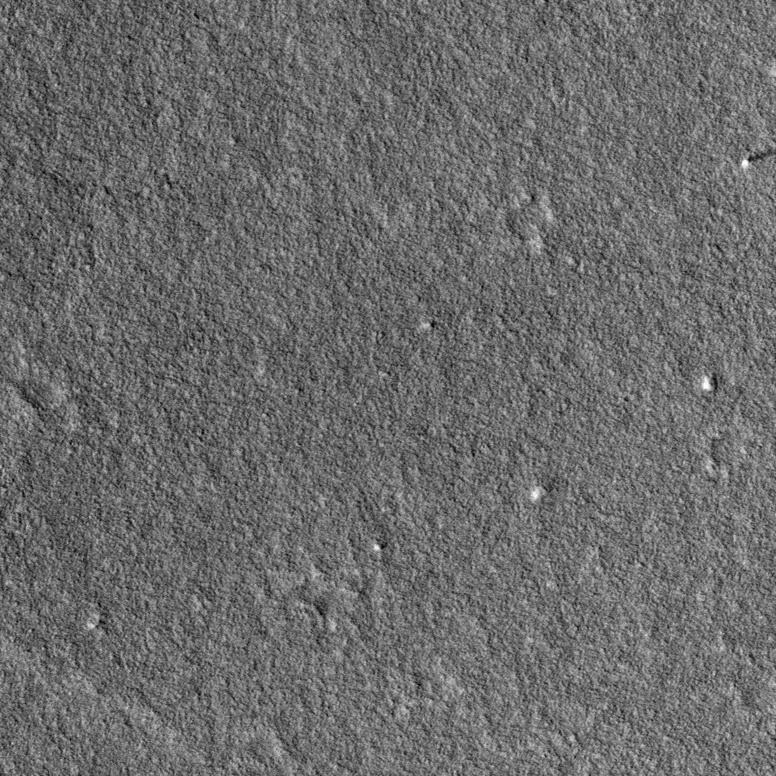dust_devil: (740, 148, 776, 171)
